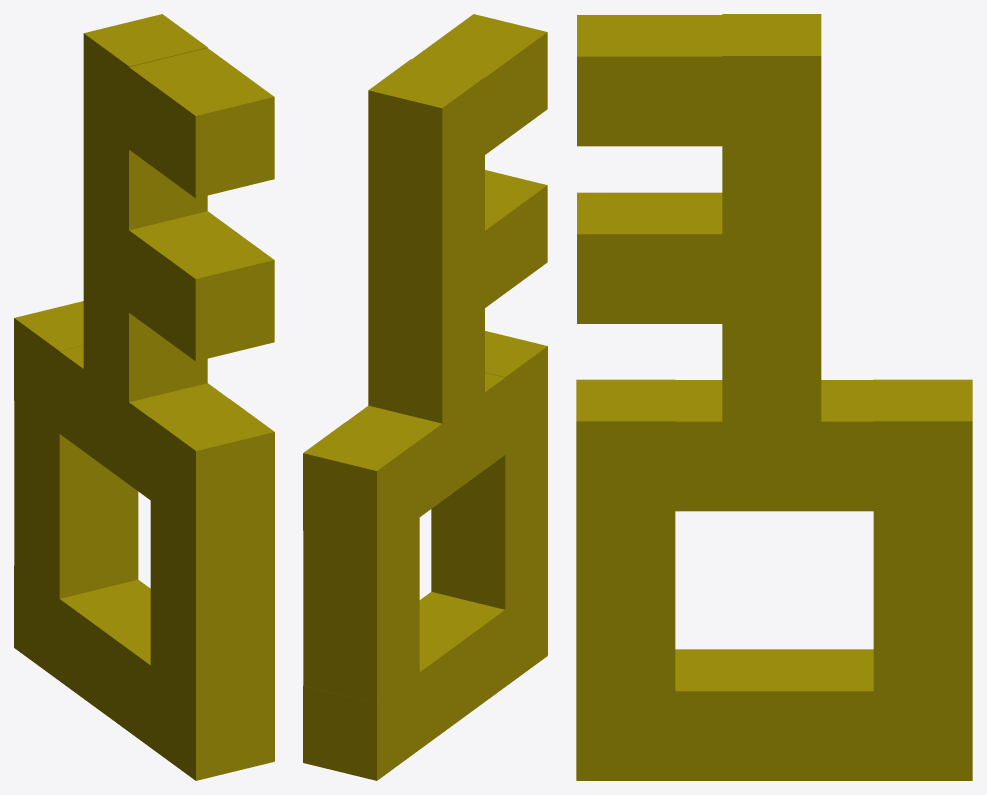
The model's file is sleutel.fbx.
3 renders of one model, left to right at view 1: azimuth 30°, elevation 25°; view 2: azimuth 150°, elevation 25°; view 3: azimuth 270°, elevation 25°, orthographic. The views are drawn at different scales.
Visible parts, largest first — view 1: group4_pasted__pCube1; view 2: group4_pasted__pCube1; view 3: group4_pasted__pCube1.
Part boxes in pixels (x1,y1,x2,y2): group4_pasted__pCube1: (14, 14, 274, 780); group4_pasted__pCube1: (303, 14, 547, 780); group4_pasted__pCube1: (576, 14, 972, 780).
Size of the model in its own units: 1 by 8.08 by 4.01.
